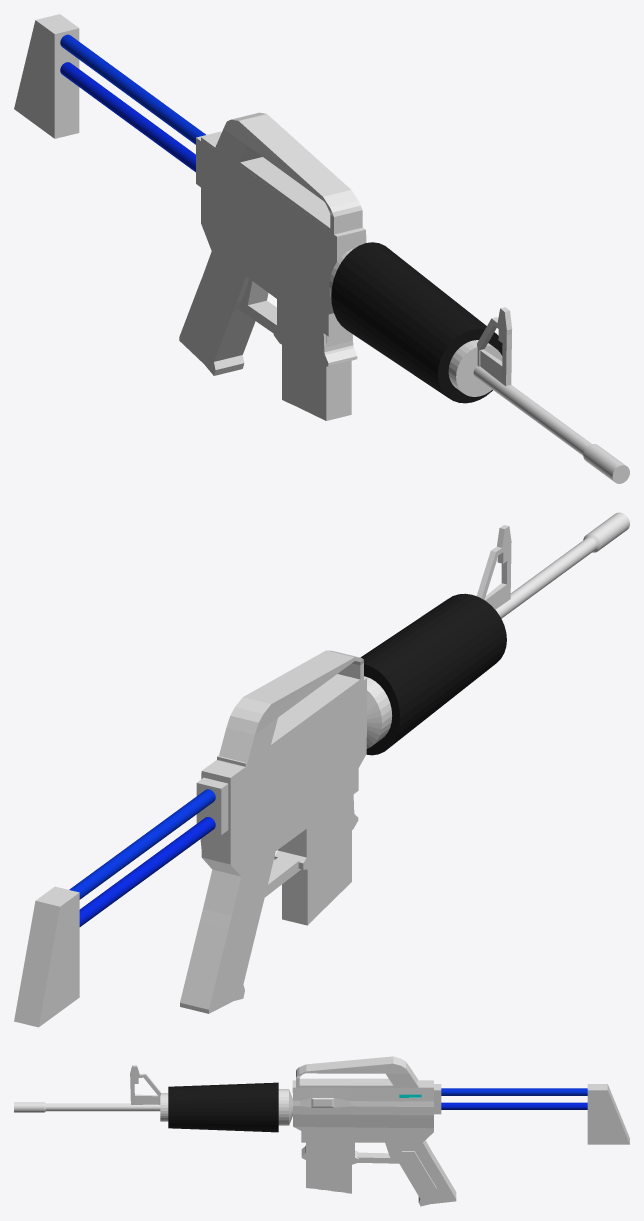
The picture shows the model from 3 angles, top to bottom: view 1: azimuth 30°, elevation 25°; view 2: azimuth 150°, elevation 25°; view 3: azimuth 270°, elevation 25°; orthographic projection. The views are drawn at different scales.
Visible parts, largest first — view 1: Cube, Cylinder, Cube.003, Cube.005, Cube.001, Cylinder.002, Cylinder.004, Cylinder.005, Cube.002, Cylinder.001; view 2: Cube, Cylinder, Cube.003, Cube.005, Cube.001, Cylinder.002, Cylinder.004, Cylinder.005, Cube.002, Cylinder.003, Cube.004; view 3: Cube, Cylinder, Cube.003, Cube.005, Cylinder.002, Cube.001, Cylinder.004, Cylinder.005, Cube.002, Cylinder.003, Cylinder.001, Cube.004.
Boxes of the visible parts, <box> form: Cube: <box>179,132,366,375</box>; Cylinder: <box>331,242,502,403</box>; Cube.003: <box>215,112,362,234</box>; Cube.005: <box>14,14,79,138</box>; Cube.001: <box>282,332,351,420</box>; Cylinder.002: <box>473,366,629,483</box>; Cylinder.004: <box>60,34,205,144</box>; Cylinder.005: <box>60,62,195,172</box>; Cube.002: <box>477,307,512,386</box>; Cylinder.001: <box>448,340,502,396</box>; Cube: <box>180,677,366,1013</box>; Cylinder: <box>360,593,506,755</box>; Cube.003: <box>217,650,363,768</box>; Cube.005: <box>14,886,79,1027</box>; Cube.001: <box>282,830,351,925</box>; Cylinder.002: <box>495,512,629,618</box>; Cylinder.004: <box>69,789,215,899</box>; Cylinder.005: <box>79,817,215,926</box>; Cube.002: <box>476,525,511,609</box>; Cylinder.003: <box>364,676,392,748</box>; Cube.004: <box>196,777,228,834</box>; Cube: <box>292,1080,456,1206</box>; Cylinder: <box>168,1082,278,1132</box>; Cube.003: <box>296,1056,418,1087</box>; Cube.005: <box>587,1084,629,1144</box>; Cylinder.002: <box>14,1102,160,1112</box>; Cube.001: <box>306,1142,351,1193</box>; Cylinder.004: <box>441,1088,587,1095</box>; Cylinder.005: <box>441,1102,587,1109</box>; Cube.002: <box>130,1065,160,1104</box>; Cylinder.003: <box>278,1089,292,1125</box>; Cylinder.001: <box>160,1093,168,1121</box>; Cube.004: <box>434,1084,441,1114</box>.
Bounding box in the file's own units: 92.38 × 348 × 1366.
